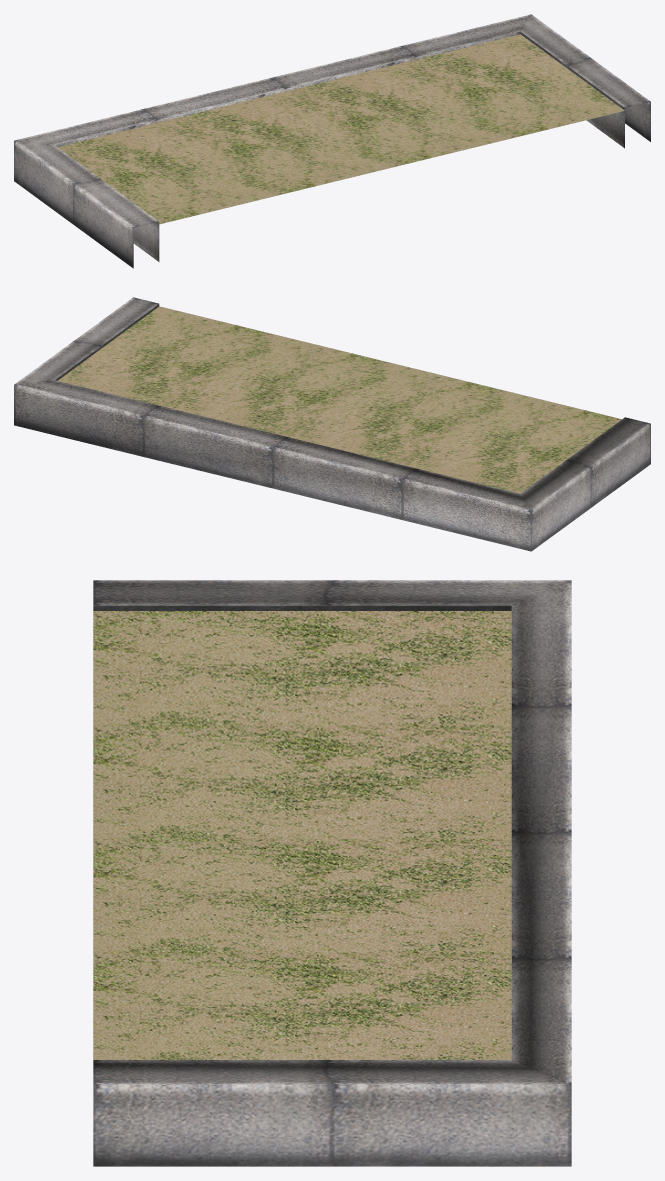
Rendered from FlowerBed_L.fbx.
3 views of the same model, one above another, from view 1: azimuth 30°, elevation 25°; view 2: azimuth 150°, elevation 25°; view 3: azimuth 270°, elevation 25° (orthographic). The views are drawn at different scales.
Parts seen in each view (by area): view 1: 0401_flowerBed_L; view 2: 0401_flowerBed_L; view 3: 0401_flowerBed_L.
Boxes of the visible parts, left/top/right/bottom form: 0401_flowerBed_L: left=14, top=14, right=650, bottom=268; 0401_flowerBed_L: left=14, top=297, right=650, bottom=551; 0401_flowerBed_L: left=93, top=580, right=571, bottom=1166.
Size of the model in its own units: 2 by 0.15 by 0.8.
